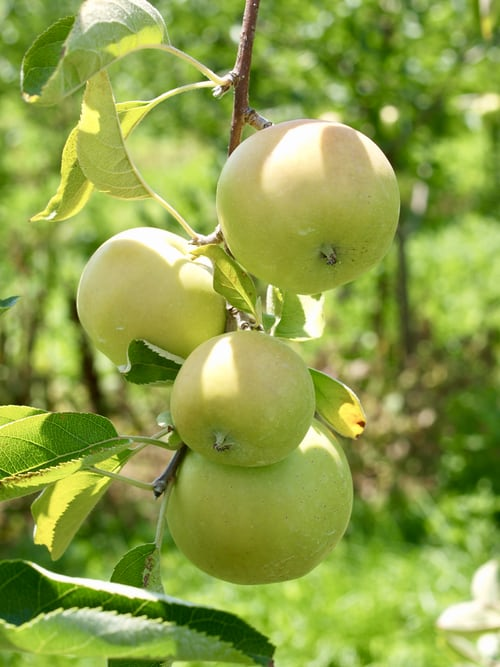apple: (161, 405, 356, 587), (211, 116, 403, 297), (73, 221, 228, 386), (167, 327, 318, 472)
